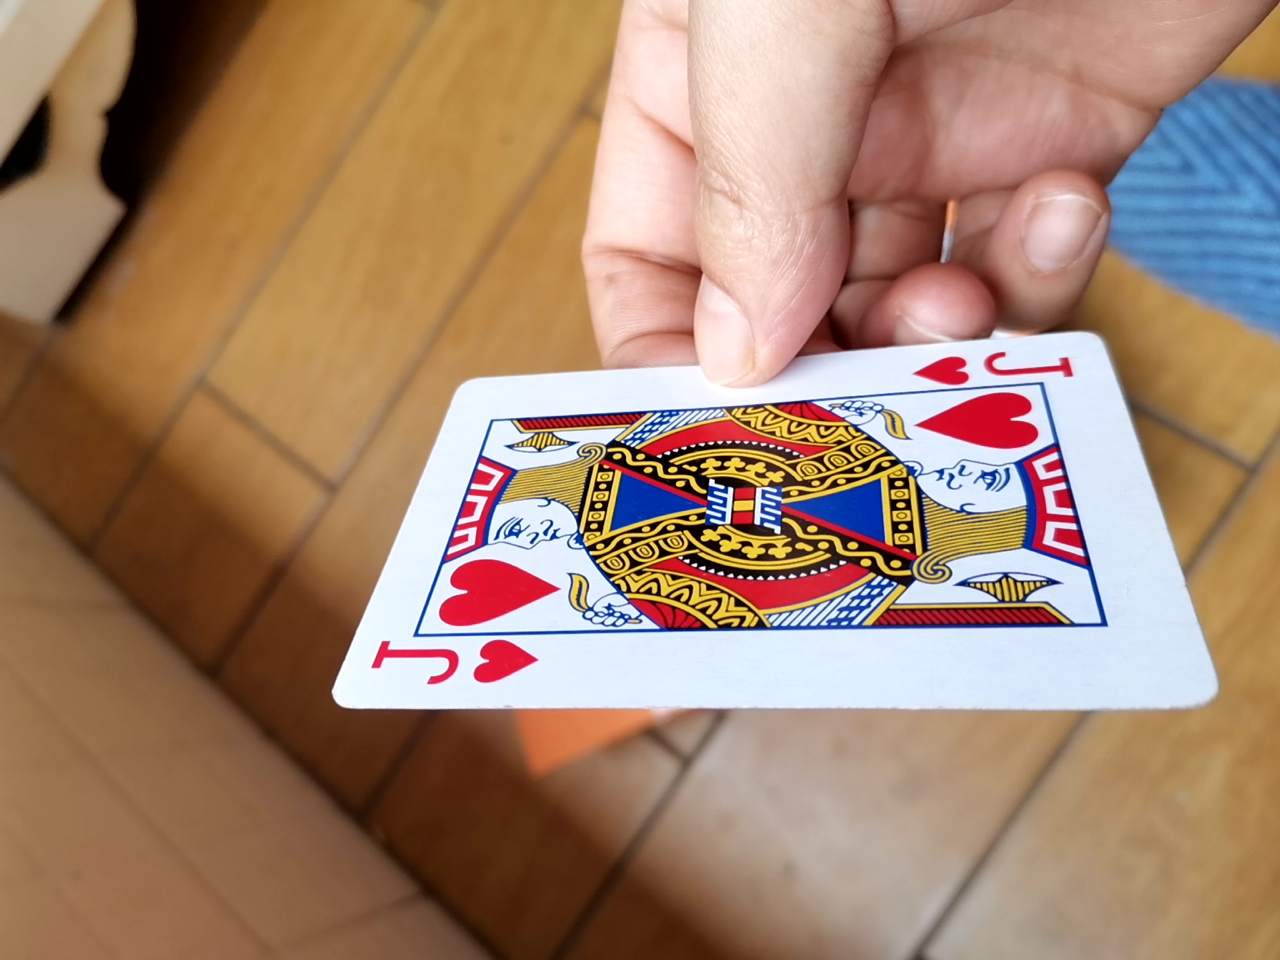hx j: (306, 331, 1208, 725)
